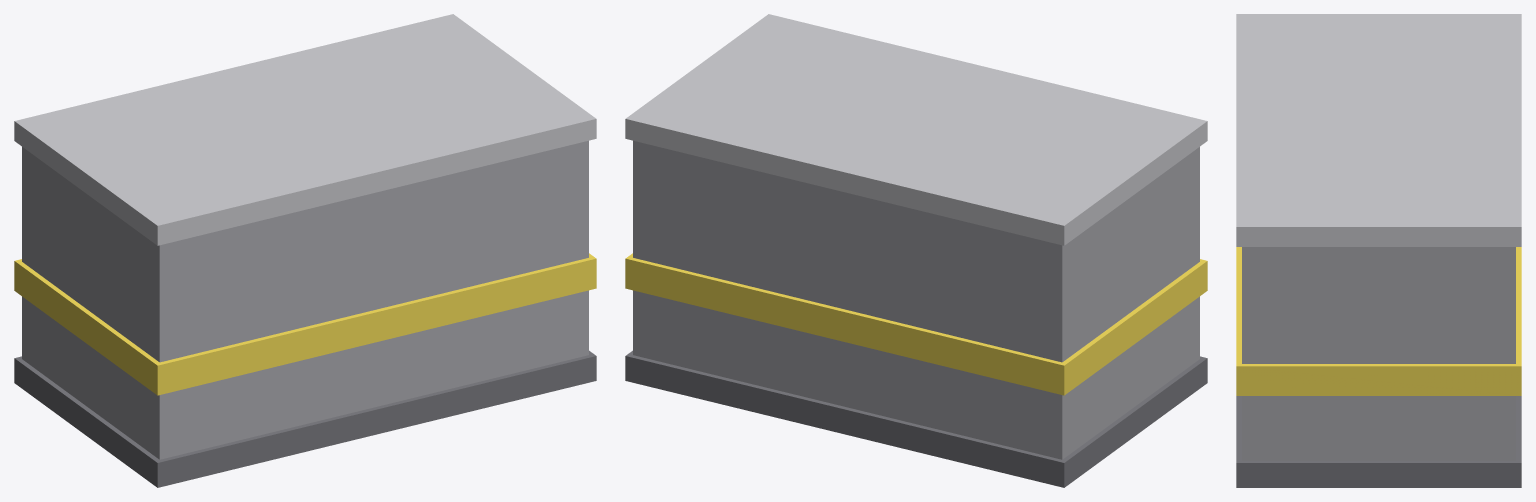
File: solid_metal_bunker.glb
The picture shows the model from 3 angles, left to right: view 1: azimuth 30°, elevation 25°; view 2: azimuth 150°, elevation 25°; view 3: azimuth 270°, elevation 25°; orthographic projection.
Parts seen in each view (by area): view 1: metal_bunker; view 2: metal_bunker; view 3: metal_bunker.
Part boxes in pixels (<box>): metal_bunker: <box>14,14,596,487</box>; metal_bunker: <box>625,14,1207,487</box>; metal_bunker: <box>1236,14,1521,487</box>.
Size of the model in its own units: 0.92 by 0.525 by 0.52.
